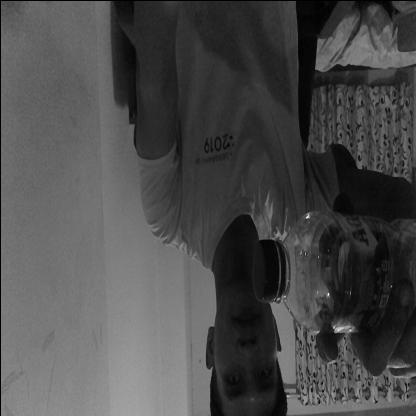plastic_bottles: (249, 209, 416, 328)
